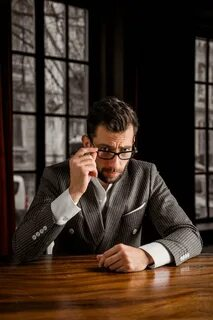awake: (11, 94, 204, 275)
